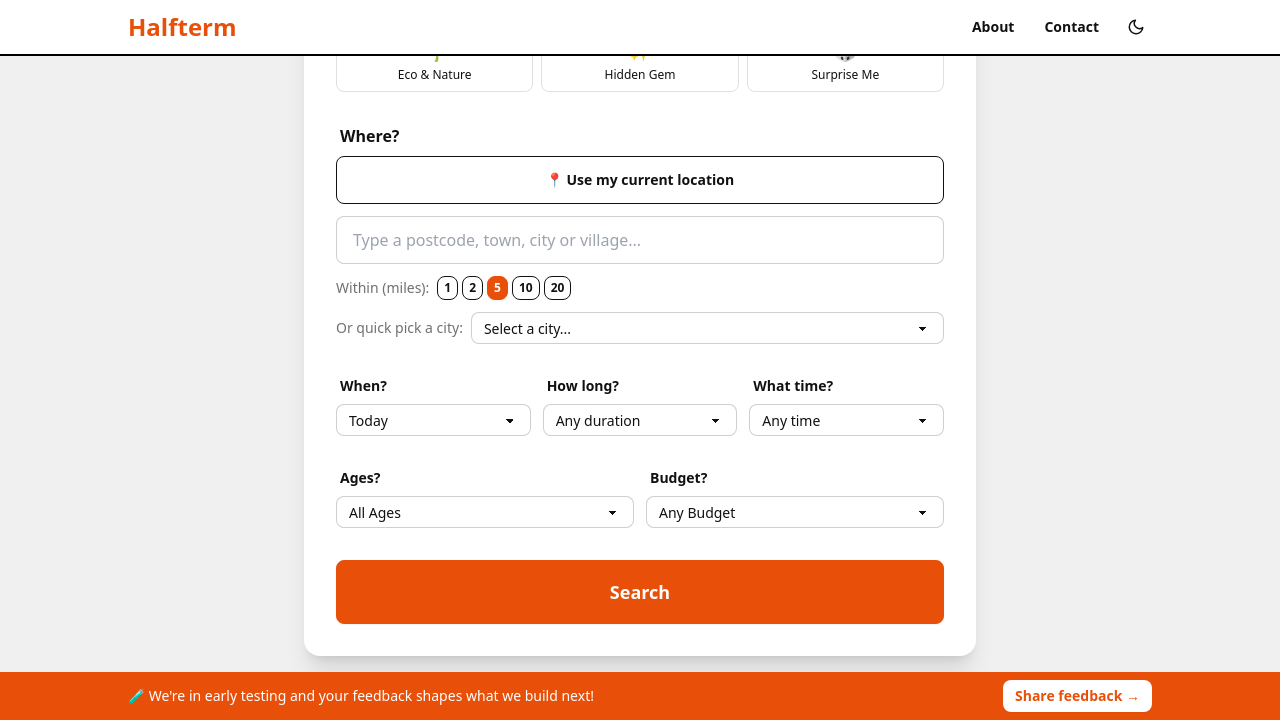
Scenario: App › shows custom date input when custom date is selected
(page scrolled)
Select "Custom date..." in the dropdown showing "Today" below "When?". click: (433, 420)
box: top-left (336, 404), bottom-right (531, 436)
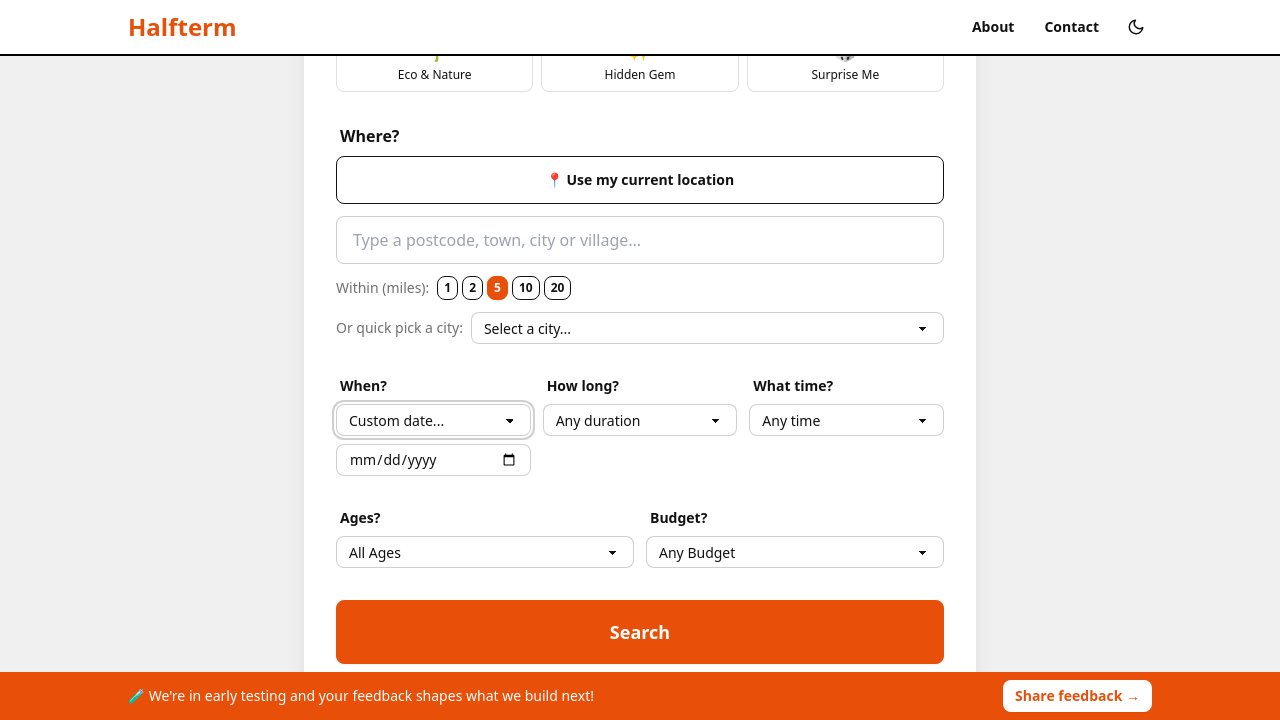
Result: the date field is shown at top-left (336, 444), bottom-right (531, 476)
